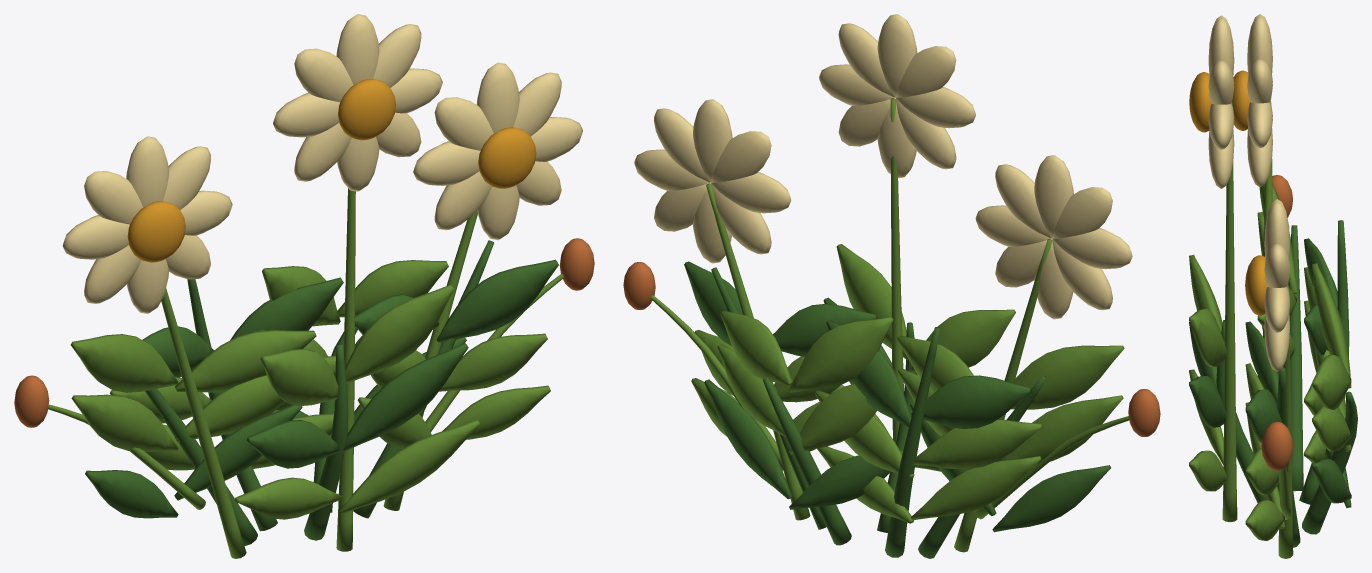
Rendered from flowering_shrub.glb.
3 views of the same model, side by side, from view 1: azimuth 30°, elevation 25°; view 2: azimuth 150°, elevation 25°; view 3: azimuth 270°, elevation 25° (orthographic). The views are drawn at different scales.
Visible parts, largest first — view 1: ShrubLeaves, Petals.002, Petals.001, Petals, FlowerStem, FlowerStem.001, FlowerCenter.002, FlowerCenter, FlowerCenter.001, Stem_02, Stem_00, FlowerStem.002 (+6 smaller); view 2: ShrubLeaves, Petals.001, Petals, Petals.002, Stem_01, Stem_03, FlowerStem.001, FlowerStem.002, FlowerStem, Stem_00, FlowerBud_0, FlowerBud_1 (+4 smaller); view 3: ShrubLeaves, Petals, Petals.001, Petals.002, FlowerStem.001, Stem_00, Stem_03, Stem_01, FlowerBud_1, FlowerStem.002, Stem_02, FlowerCenter.001 (+6 smaller).
Part boxes in pixels (x1,y1,x2,y2): ShrubLeaves: (70,259,558,519); Petals.002: (413,62,582,240); Petals.001: (273,14,442,191); Petals: (62,136,232,313); FlowerStem: (161,288,246,558); FlowerStem.001: (336,188,355,551); FlowerCenter.002: (478,127,536,188); FlowerCenter: (127,201,185,262); FlowerCenter.001: (338,79,395,140); Stem_02: (304,344,348,540); Stem_00: (145,388,257,545); FlowerStem.002: (383,211,477,510); ShrubLeaves: (684,244,1124,532); Petals.001: (819,14,975,178); Petals: (975,155,1132,319); Petals.002: (634,99,791,263); Stem_01: (885,327,940,557); Stem_03: (763,377,851,545); FlowerStem.001: (890,98,903,443); FlowerStem.002: (706,183,810,520); FlowerStem: (954,239,1051,552); Stem_00: (918,375,1046,558); FlowerBud_0: (1128,389,1160,436); FlowerBud_1: (623,262,655,309); ShrubLeaves: (1189,184,1351,540); Petals: (1247,14,1272,187); Petals.001: (1208,15,1234,188); Petals.002: (1264,198,1289,371); FlowerStem.001: (1222,102,1237,521); Stem_00: (1289,225,1303,491); Stem_03: (1302,391,1357,534); Stem_01: (1299,220,1349,504); FlowerBud_1: (1261,421,1292,470); FlowerStem.002: (1278,285,1293,558); Stem_02: (1216,320,1267,502); FlowerCenter.001: (1189,72,1211,132).
Bounding box in the file's own units: 1.46 × 1.31 × 0.393.
